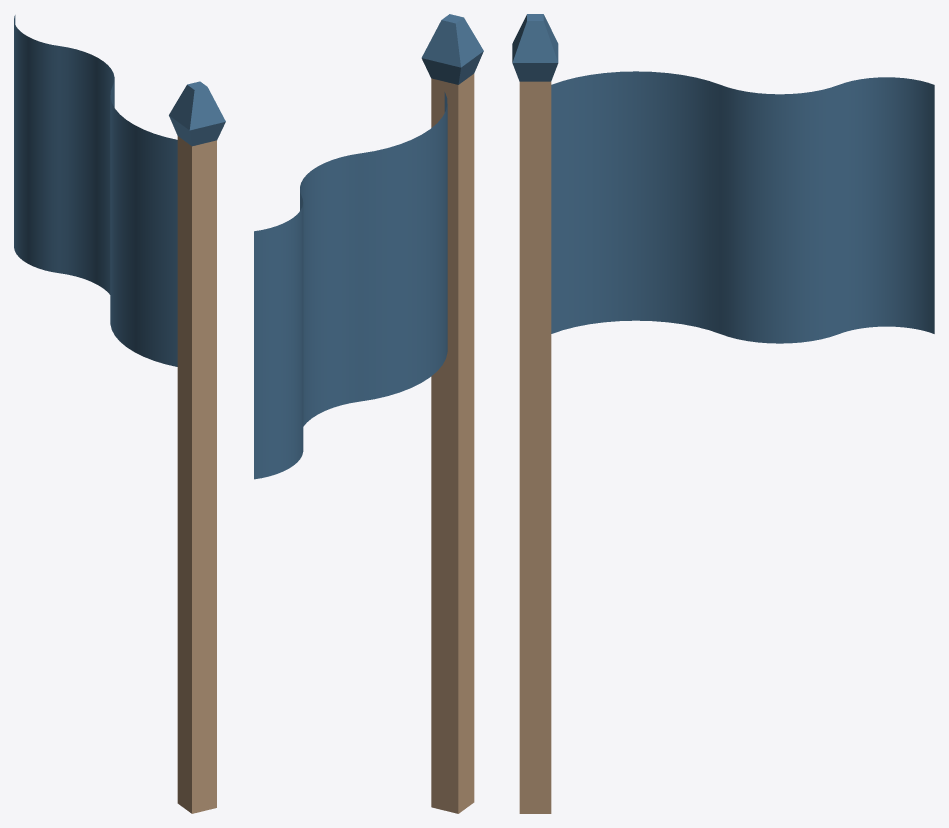
File: flagBlueWide.fbx
3 views of the same model, side by side, from view 1: azimuth 30°, elevation 25°; view 2: azimuth 150°, elevation 25°; view 3: azimuth 270°, elevation 25° (orthographic). The views are drawn at different scales.
Parts seen in each view (by area): view 1: Group 286, flagBlueWide; view 2: Group 286, flagBlueWide; view 3: Group 286, flagBlueWide.
Part boxes in pixels (x1,y1,x2,y2): Group 286: [14, 15, 177, 366]; flagBlueWide: [169, 81, 225, 813]; Group 286: [254, 92, 447, 479]; flagBlueWide: [421, 14, 483, 813]; Group 286: [551, 71, 934, 343]; flagBlueWide: [512, 14, 558, 813].
Bounding box in the file's own units: 0.4988 × 7.92 × 3.84.
